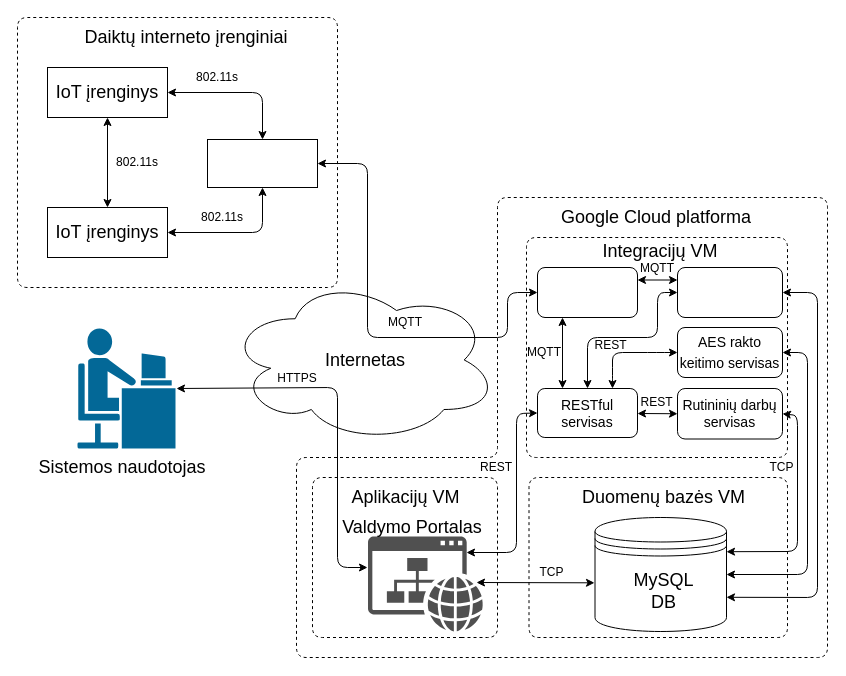
Image size: 846x676. Some labels were removed from this diagram. Each missing label, with the centre of its shape:
"Integracijų servisas" goes at [729,292].
"Mosquitto brokeris" goes at [587,292].
"Įgaliotas IoT įrenginys" goes at [262,163].
